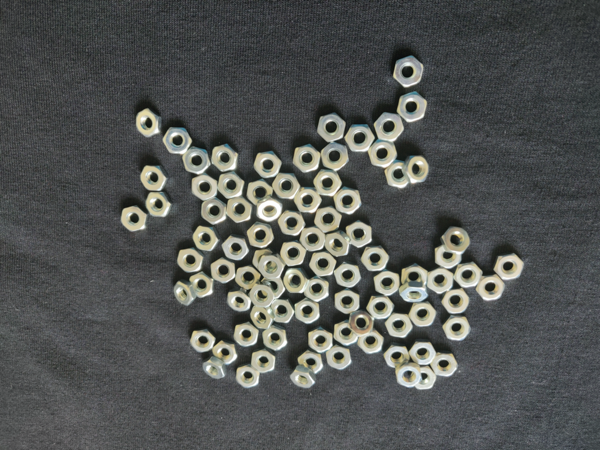nut: (392, 56, 424, 88), (139, 162, 172, 192), (253, 149, 287, 178), (322, 140, 353, 171), (335, 186, 366, 217), (396, 93, 428, 123), (375, 111, 405, 142), (440, 288, 473, 316), (184, 141, 211, 175), (347, 124, 377, 154), (317, 113, 345, 145), (292, 143, 321, 173), (163, 125, 193, 154), (194, 222, 220, 255), (443, 225, 472, 254), (190, 173, 219, 202), (425, 267, 455, 295), (477, 274, 508, 301), (312, 169, 344, 195), (349, 311, 381, 337), (145, 193, 179, 217), (175, 246, 204, 274), (370, 139, 398, 168), (274, 171, 303, 199), (345, 219, 373, 248), (362, 244, 392, 271), (136, 107, 161, 139), (443, 316, 472, 343), (232, 321, 259, 350), (211, 143, 238, 172), (369, 293, 398, 320), (200, 198, 229, 225), (335, 262, 363, 289), (309, 326, 336, 354), (209, 256, 236, 284), (496, 254, 525, 280), (310, 252, 339, 278), (279, 210, 305, 239), (314, 208, 344, 233), (453, 264, 487, 286), (409, 341, 440, 365), (120, 206, 147, 233), (374, 269, 401, 296), (252, 247, 279, 274), (226, 196, 254, 222), (222, 236, 250, 262), (295, 299, 323, 325), (411, 303, 440, 328), (246, 223, 275, 248), (404, 156, 429, 184), (261, 275, 289, 300), (216, 174, 245, 198), (246, 180, 272, 206), (281, 241, 307, 267), (432, 353, 459, 378), (359, 328, 384, 355), (299, 351, 324, 378), (235, 321, 260, 348), (436, 243, 460, 270), (294, 189, 322, 212), (325, 233, 353, 256), (266, 326, 289, 354), (192, 327, 217, 352), (227, 290, 252, 315), (335, 289, 359, 315), (396, 365, 422, 389), (387, 314, 413, 338), (300, 227, 326, 251), (327, 345, 353, 369), (331, 321, 357, 345), (258, 199, 282, 225), (250, 282, 274, 308), (273, 298, 296, 325), (258, 257, 286, 279), (384, 162, 407, 188), (291, 369, 317, 392), (414, 367, 441, 389), (252, 352, 276, 376), (191, 274, 215, 298), (401, 265, 427, 287), (307, 278, 329, 304), (285, 269, 307, 295), (237, 263, 259, 289), (237, 365, 260, 389), (205, 358, 227, 381), (401, 285, 429, 303), (385, 346, 409, 367), (218, 342, 239, 366), (251, 308, 271, 329), (175, 282, 192, 305)
